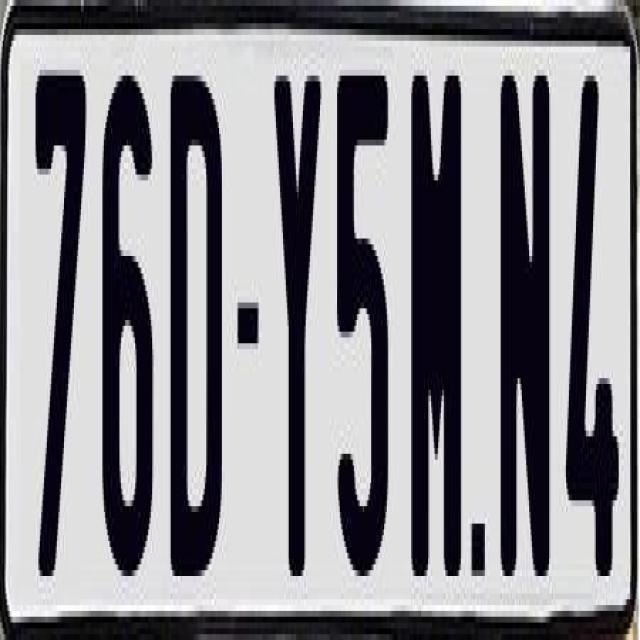4: (564, 70, 616, 594)
5: (337, 58, 395, 559)
6: (98, 64, 148, 570)
7: (36, 70, 90, 594)
D: (168, 76, 225, 582)
M: (410, 76, 460, 600)
N: (499, 70, 556, 576)
Y: (272, 76, 322, 576)
